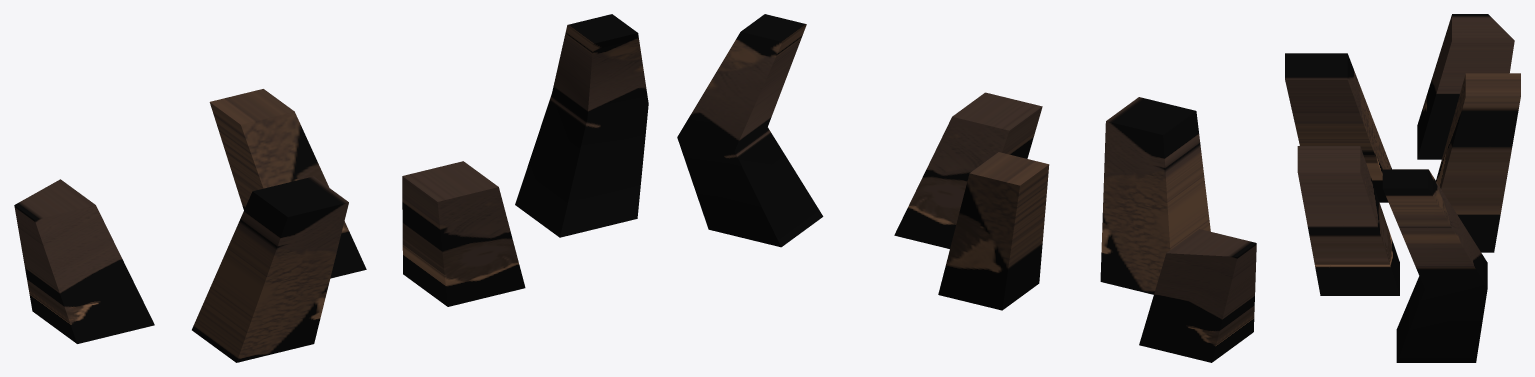
File: DeadGrass_2.fbx
3 renders of one model, left to right at view 1: azimuth 30°, elevation 25°; view 2: azimuth 150°, elevation 25°; view 3: azimuth 270°, elevation 25°, orthographic. The views are drawn at different scales.
Parts seen in each view (by area): view 1: DeadGrass_2; view 2: DeadGrass_2; view 3: DeadGrass_2.
Boxes of the visible parts, left/top/right/bottom form: DeadGrass_2: left=14, top=14, right=648, bottom=362; DeadGrass_2: left=677, top=14, right=1256, bottom=362; DeadGrass_2: left=1285, top=14, right=1520, bottom=362.
Size of the model in its own units: 85.53 by 26.4 by 32.98.
